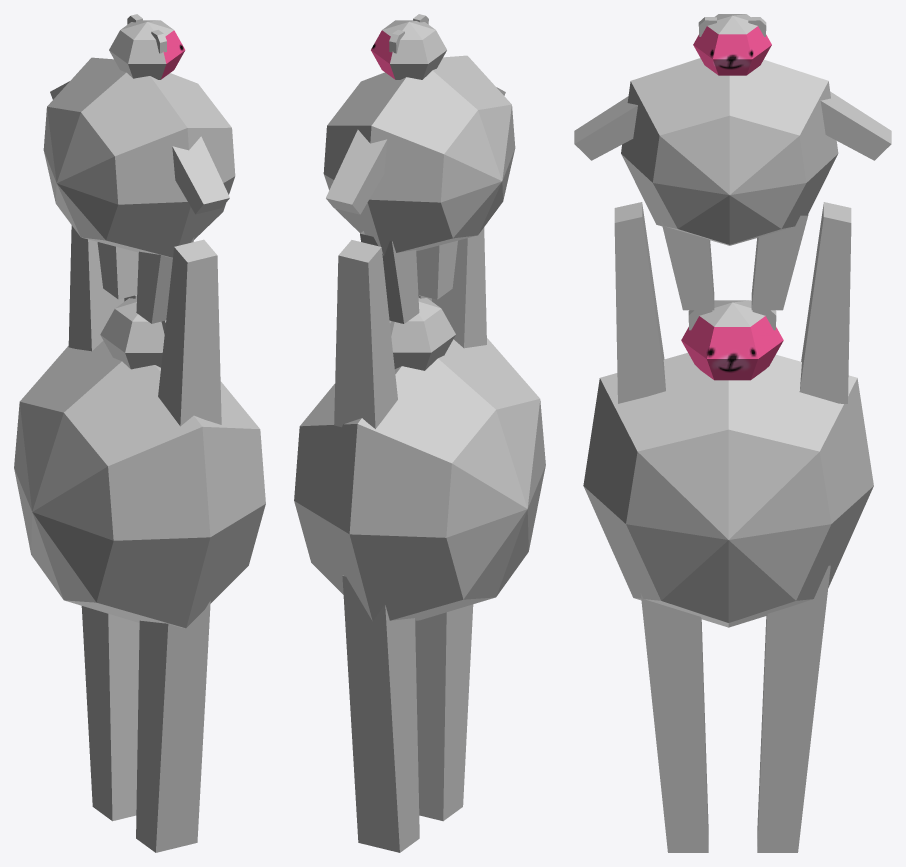
File: 074_Bears.fbx
3 renders of one model, left to right at view 1: azimuth 30°, elevation 25°; view 2: azimuth 150°, elevation 25°; view 3: azimuth 270°, elevation 25°, orthographic. The views are drawn at different scales.
Parts seen in each view (by area): view 1: Sphere.001; view 2: Sphere.001; view 3: Sphere.001.
Part boxes in pixels (x1,y1,x2,y2): Sphere.001: [14, 14, 265, 852]; Sphere.001: [294, 14, 545, 852]; Sphere.001: [574, 14, 891, 852].
Bounding box in the file's own units: 37.45 × 133 × 46.3.
